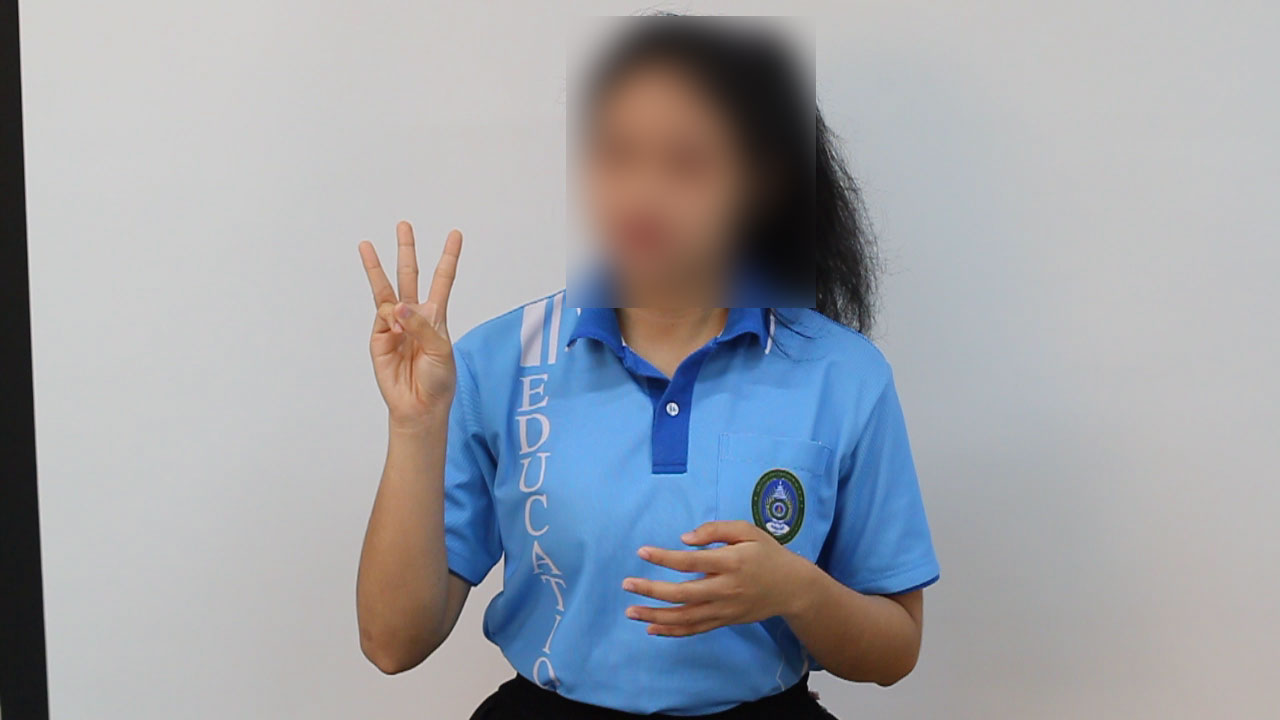wor: (349, 208, 474, 434)
